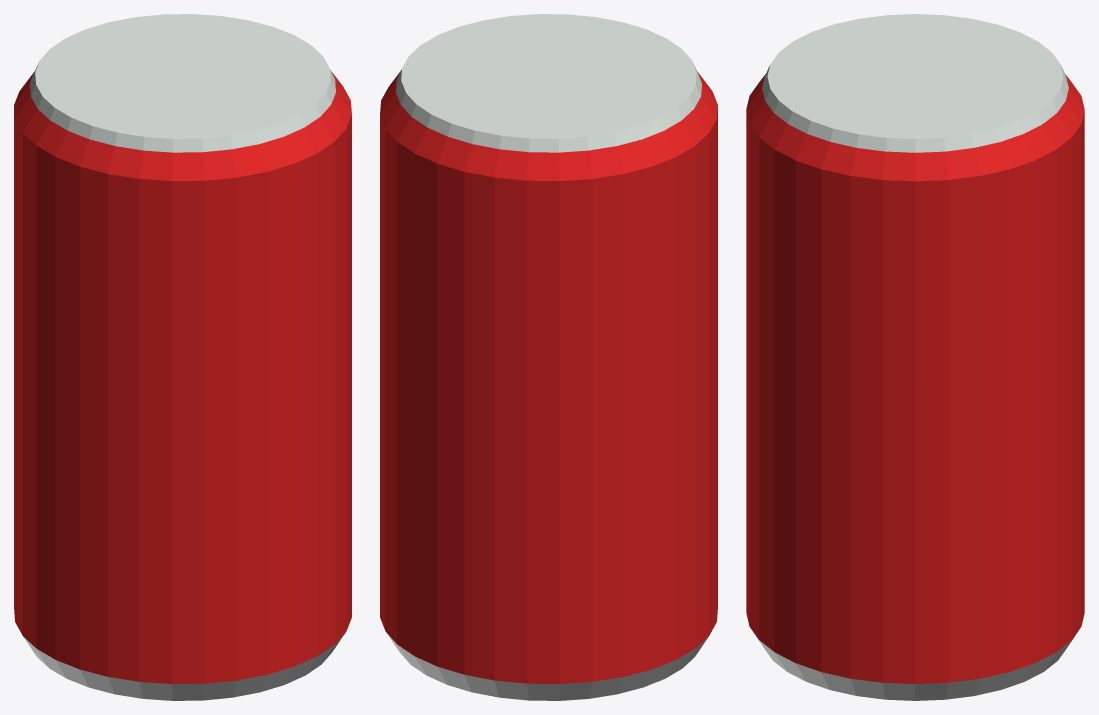
Rendered from redcan.fbx.
The picture shows the model from 3 angles, left to right: view 1: azimuth 30°, elevation 25°; view 2: azimuth 150°, elevation 25°; view 3: azimuth 270°, elevation 25°; orthographic projection.
Parts seen in each view (by area): view 1: Cylinder; view 2: Cylinder; view 3: Cylinder.
Boxes of the visible parts, x1,y1,x2,y2 form: Cylinder: [14, 14, 351, 700]; Cylinder: [380, 14, 717, 700]; Cylinder: [746, 14, 1084, 700].
Bounding box in the file's own units: 200 × 365 × 200.
